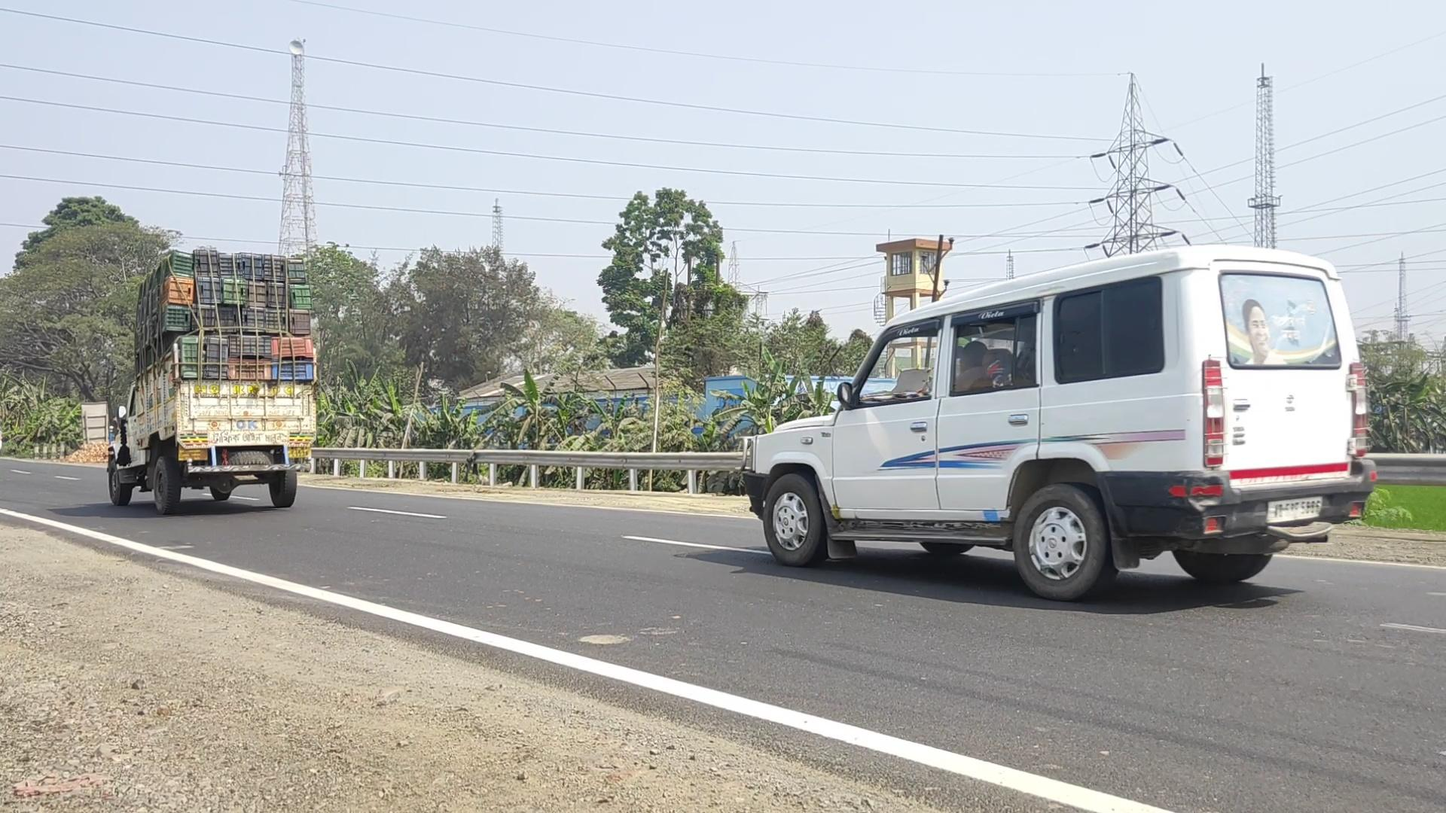car: (743, 243, 1376, 601)
van: (106, 248, 317, 515)
